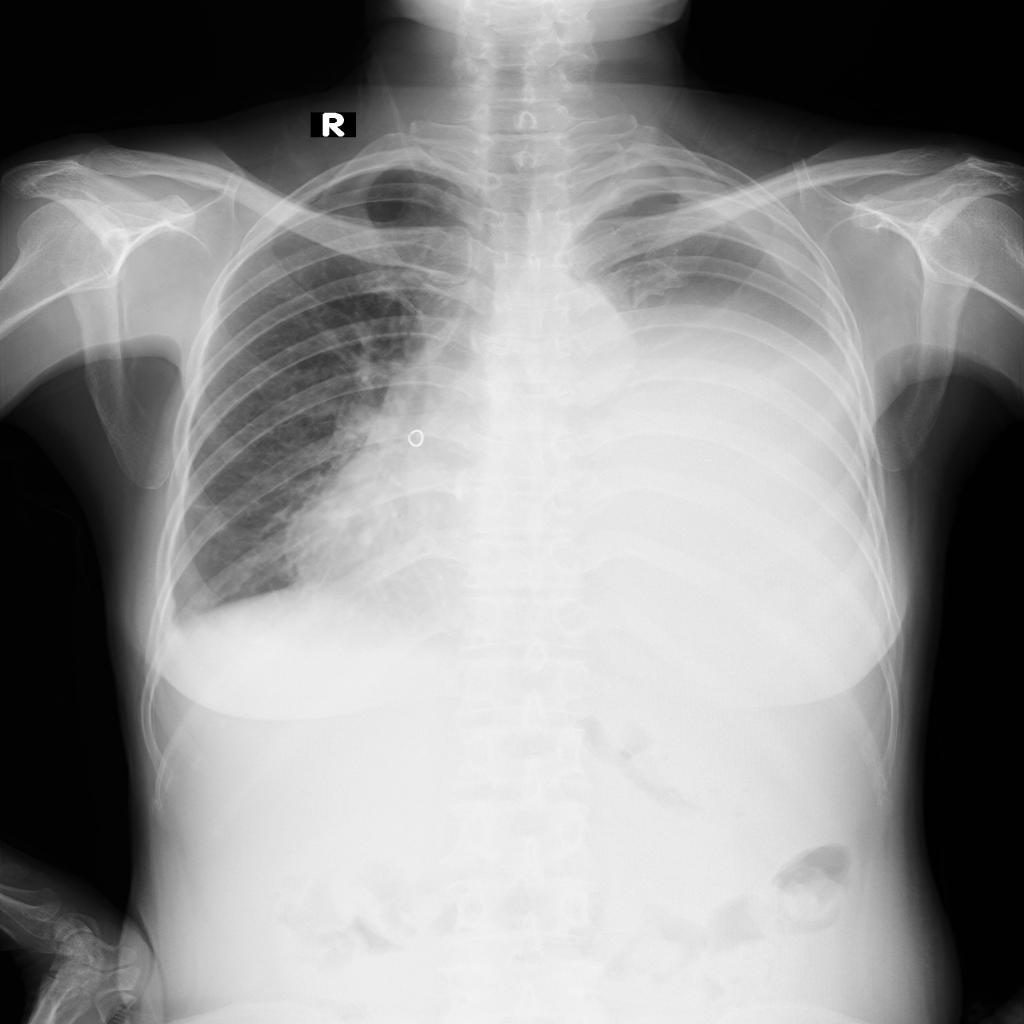Nodule: (508, 274, 636, 413)
